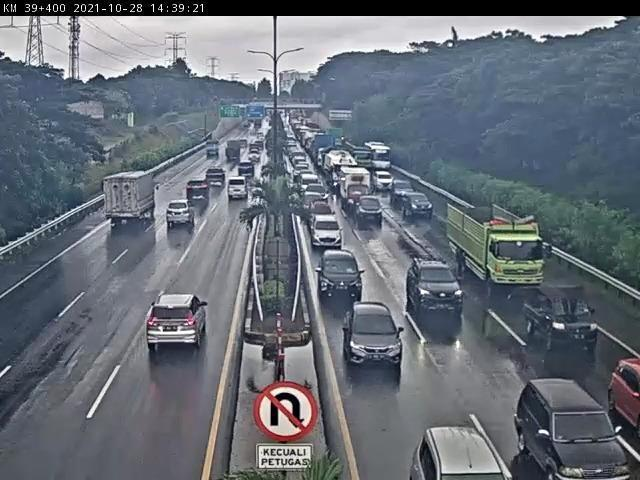bus: (367, 142, 396, 173)
car: (516, 375, 631, 480), (143, 284, 215, 360), (520, 285, 602, 351), (340, 298, 404, 373), (406, 251, 468, 324), (314, 247, 368, 303), (310, 214, 345, 253), (163, 196, 196, 232), (356, 194, 384, 229), (403, 190, 436, 218), (390, 177, 417, 207), (299, 193, 328, 219), (306, 181, 333, 207), (187, 178, 212, 201), (374, 170, 397, 193), (226, 178, 249, 201), (297, 173, 322, 194), (207, 166, 228, 188), (312, 201, 334, 222), (239, 159, 255, 175)
truck: (446, 194, 552, 293), (101, 170, 162, 225), (337, 164, 375, 214), (348, 143, 375, 171)
